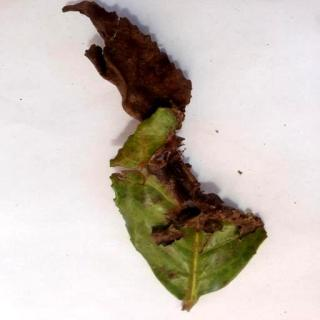Algal Leaf: (64, 3, 269, 310)
